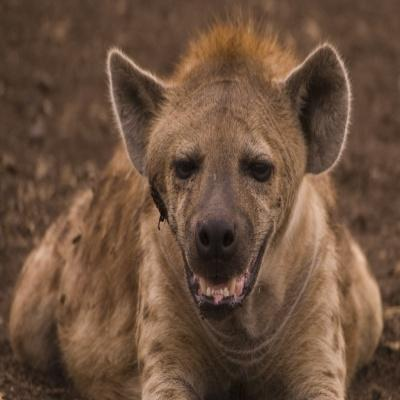hyenas: (22, 0, 400, 400)
